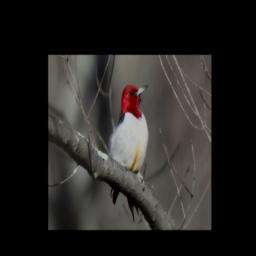Woodpecker: (107, 84, 151, 225)
